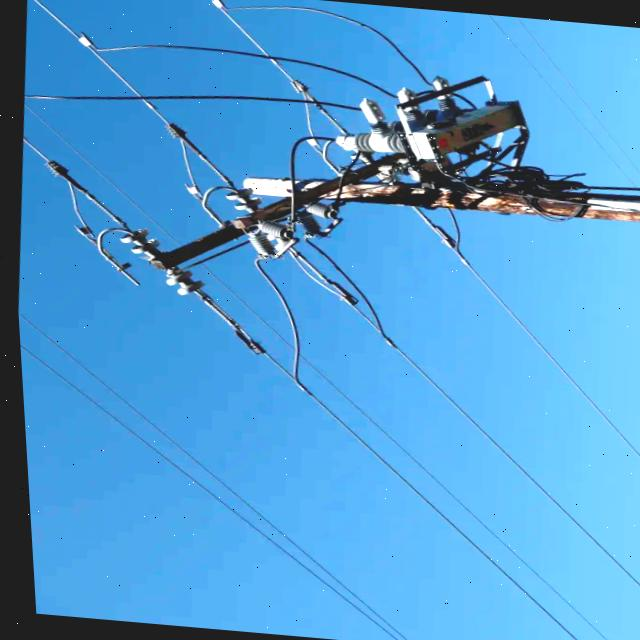poles: (132, 75, 640, 268)
wires: (13, 276, 640, 640), (19, 0, 436, 125), (268, 359, 418, 498), (132, 224, 267, 358), (290, 251, 404, 357), (156, 113, 233, 190), (39, 154, 113, 216)
